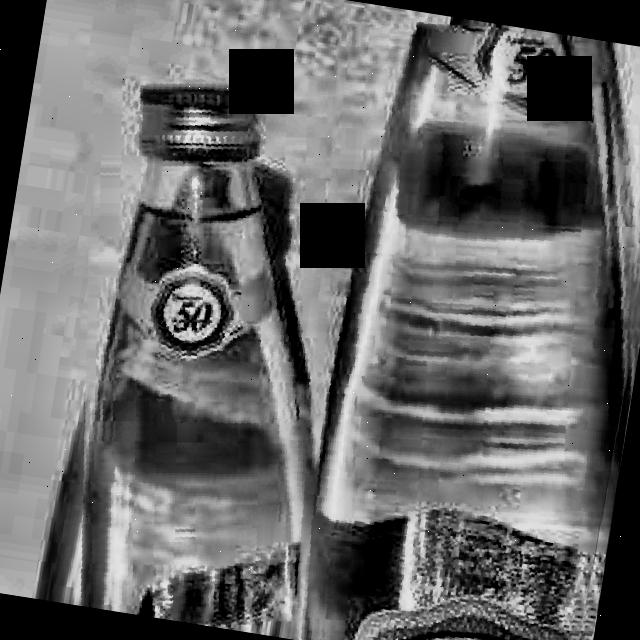bottle: (258, 2, 640, 640), (32, 49, 402, 640)
